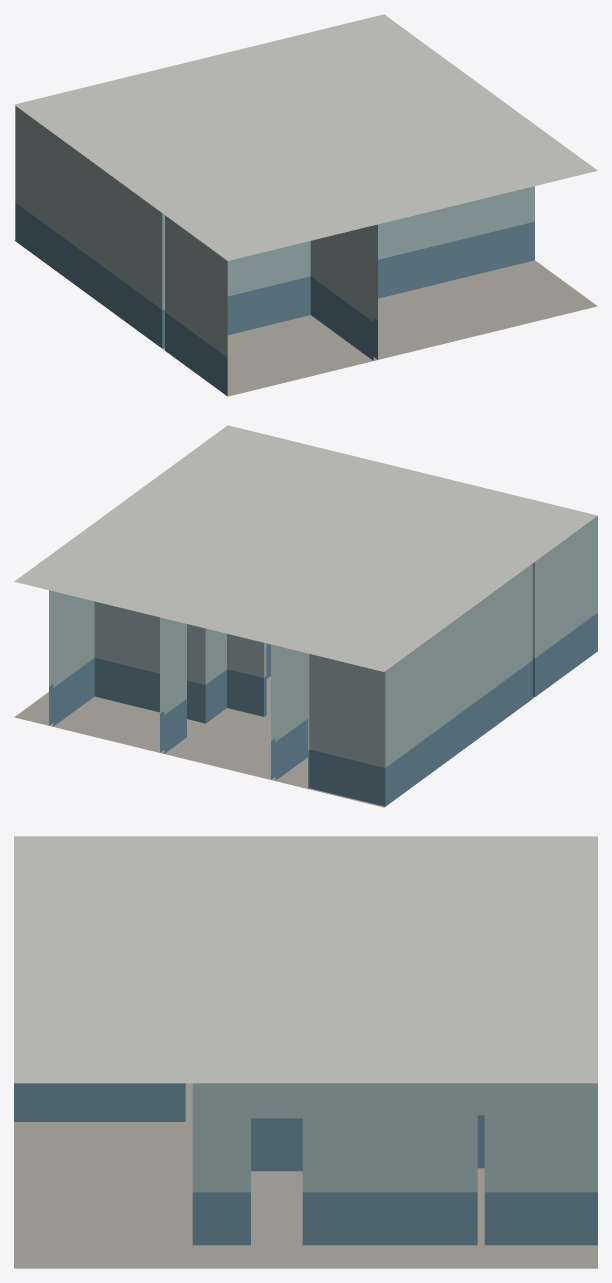
File: chunk_0_1.glb
The picture shows the model from 3 angles, top to bottom: view 1: azimuth 30°, elevation 25°; view 2: azimuth 150°, elevation 25°; view 3: azimuth 270°, elevation 25°; orthographic projection. The views are drawn at different scales.
Parts seen in each view (by area): view 1: chunk_0_1; view 2: chunk_0_1; view 3: chunk_0_1.
Part boxes in pixels (x1=…): chunk_0_1: x1=14, y1=14, x2=597, y2=396; chunk_0_1: x1=14, y1=425, x2=597, y2=807; chunk_0_1: x1=14, y1=836, x2=597, y2=1268.
Bounding box in the file's own units: 12 × 4.2 × 12.
